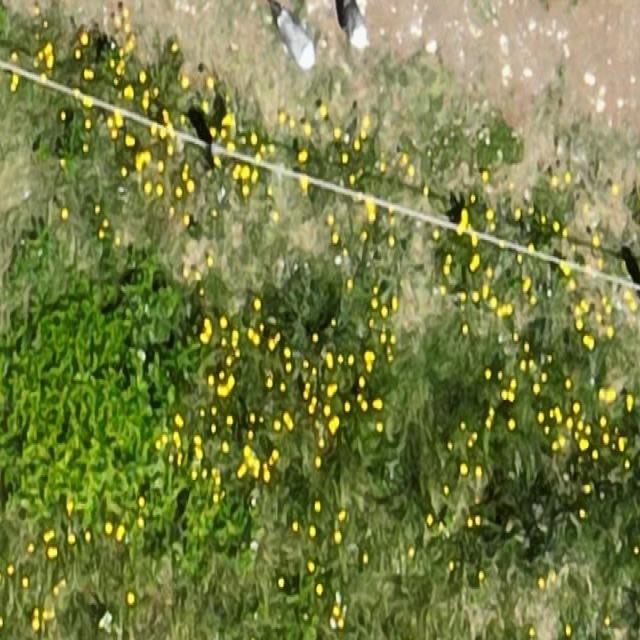umineko: (270, 3, 314, 68), (344, 5, 370, 48)
